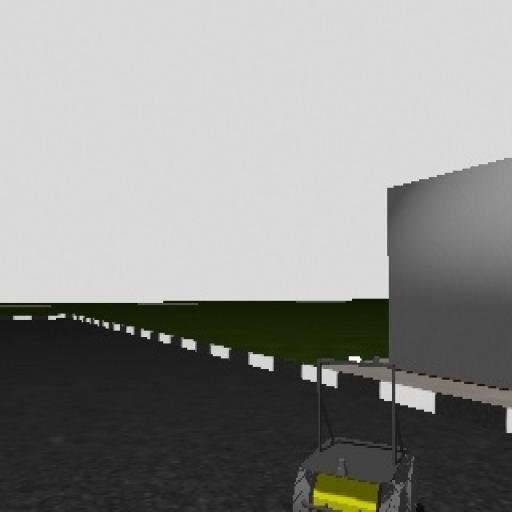huskya200: (280, 352, 430, 512)
